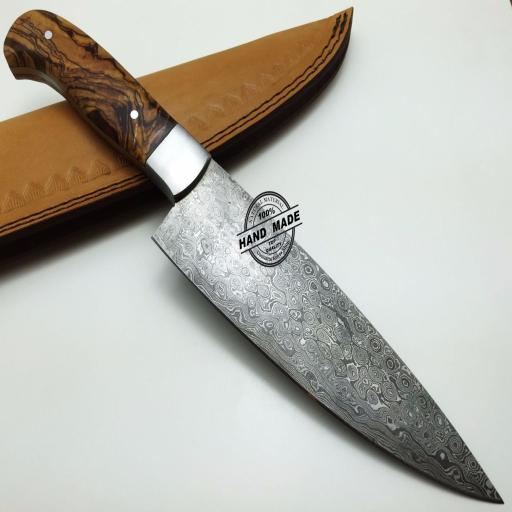knife: (1, 1, 508, 512)
